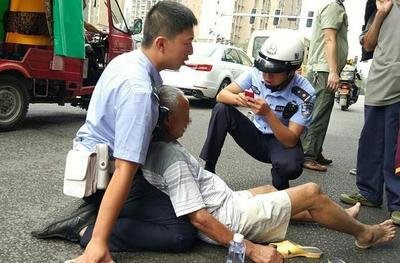fall: (136, 64, 390, 255)
